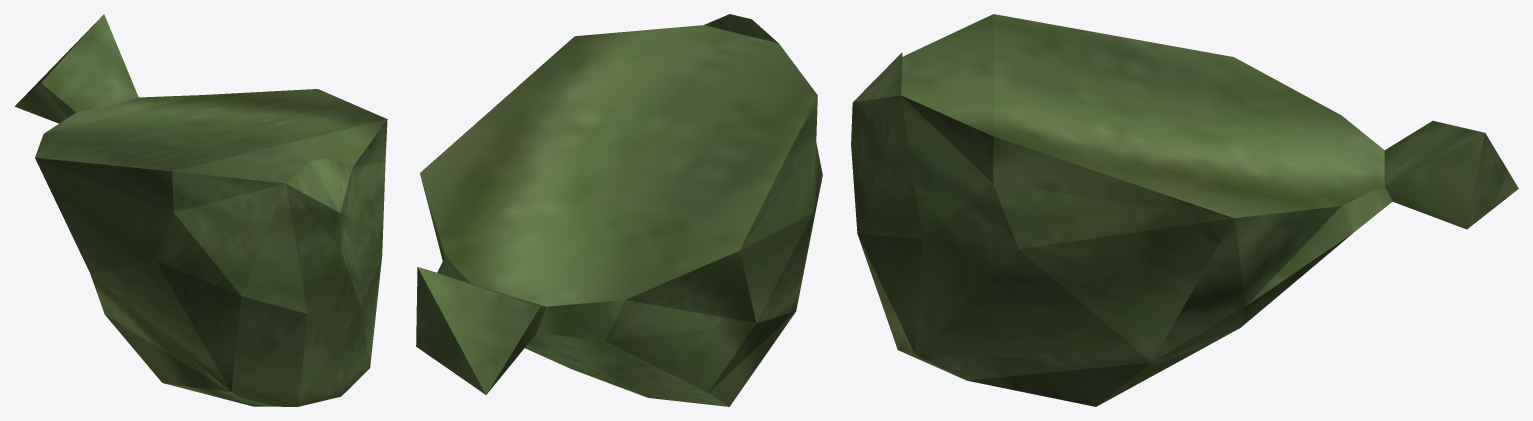
The model's file is CHUSTA_ZIEL.glb.
3 views of the same model, side by side, from view 1: azimuth 30°, elevation 25°; view 2: azimuth 150°, elevation 25°; view 3: azimuth 270°, elevation 25° (orthographic). The views are drawn at different scales.
Visible parts, largest first — view 1: CHUSTA_ZIEL; view 2: CHUSTA_ZIEL; view 3: CHUSTA_ZIEL.
Boxes of the visible parts, <box> form: CHUSTA_ZIEL: <box>15,14,387,406</box>; CHUSTA_ZIEL: <box>416,14,822,406</box>; CHUSTA_ZIEL: <box>851,14,1518,406</box>.
Bounding box in the file's own units: 0.1928 × 0.18 × 0.3386.
Materials: 1 (1 with a texture image).
